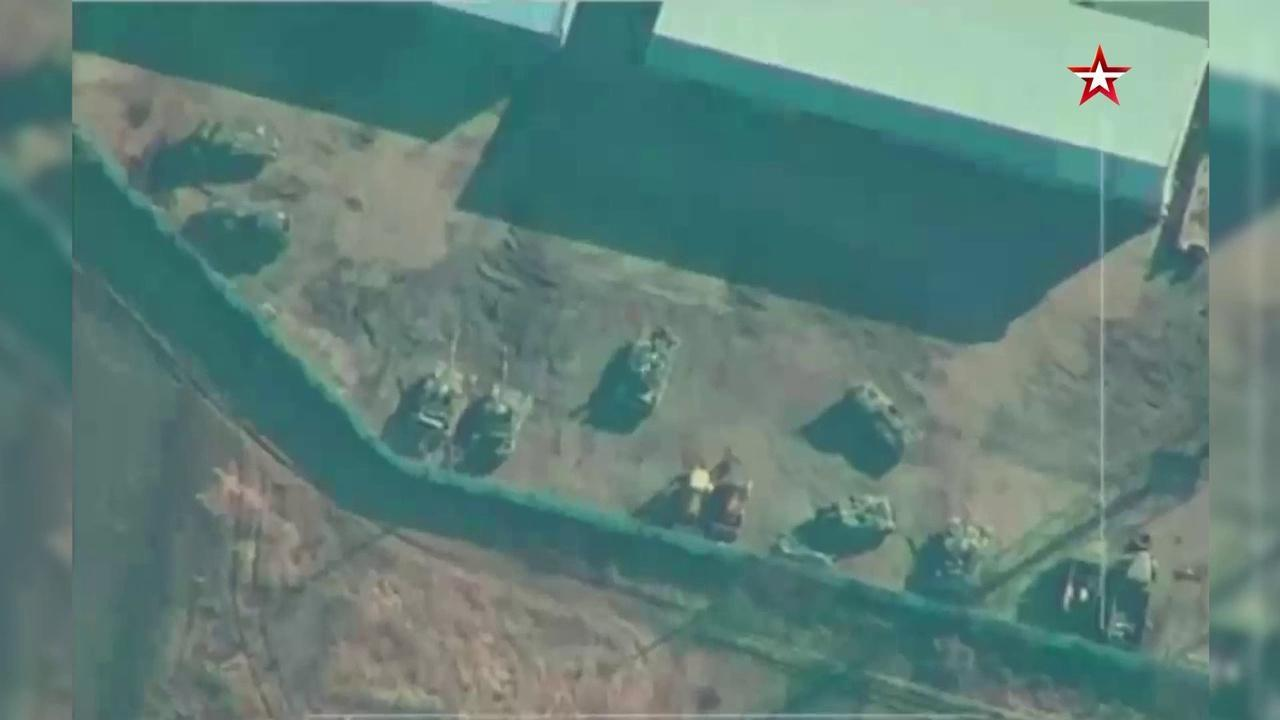tank: (406, 326, 479, 439), (468, 346, 536, 459), (608, 316, 682, 411), (839, 375, 914, 452), (939, 506, 991, 598)
